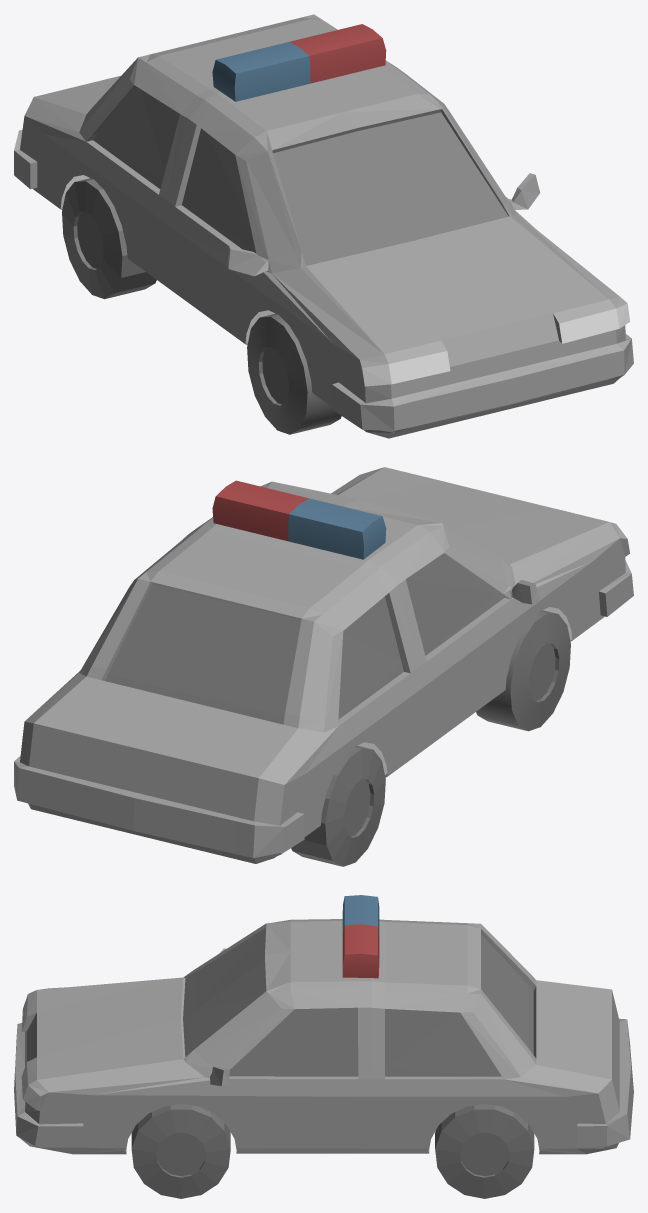
Rendered from PoliceCar_color.fbx.
The picture shows the model from 3 angles, top to bottom: view 1: azimuth 30°, elevation 25°; view 2: azimuth 150°, elevation 25°; view 3: azimuth 270°, elevation 25°; orthographic projection. The views are drawn at different scales.
Visible parts, largest first — view 1: pCube3, pCube2, pasted__pasted__pCylinder3, pasted__pCylinder4; view 2: pCube3, pCube2, pasted__pCylinder4, pasted__pasted__pCylinder3; view 3: pCube3, pCylinder3, pasted__pCylinder3, pCube2.
Part boxes in pixels (<box>): pCube3: <box>14,14,633,438</box>; pCube2: <box>212,24,386,101</box>; pasted__pasted__pCylinder3: <box>62,178,156,299</box>; pasted__pCylinder4: <box>247,313,341,434</box>; pCube3: <box>14,467,633,863</box>; pCube2: <box>212,480,386,559</box>; pasted__pCylinder4: <box>476,610,570,731</box>; pasted__pasted__pCylinder3: <box>291,745,385,866</box>; pCube3: <box>14,919,633,1154</box>; pCylinder3: <box>131,1104,230,1198</box>; pasted__pCylinder3: <box>435,1104,534,1198</box>; pCube2: <box>342,895,379,978</box>.
Bounding box in the file's own units: 5.91 × 4.91 × 12.43.
